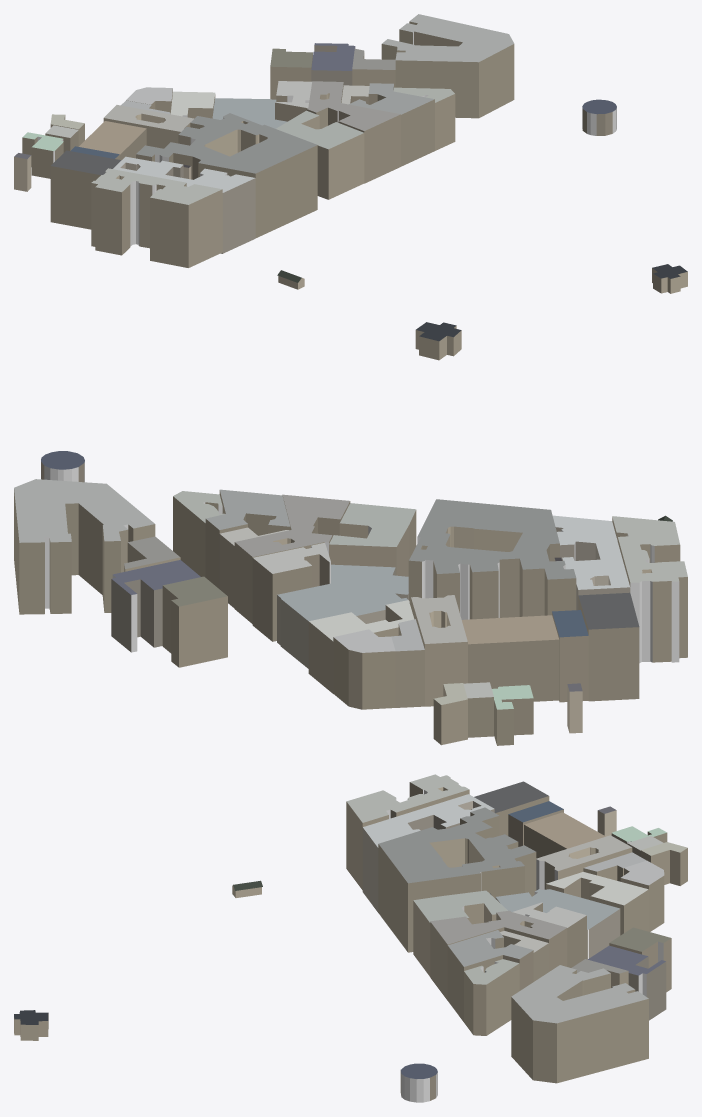
The picture shows the model from 3 angles, top to bottom: view 1: azimuth 30°, elevation 25°; view 2: azimuth 150°, elevation 25°; view 3: azimuth 270°, elevation 25°; orthographic projection. The views are drawn at different scales.
Parts seen in each view (by area): view 1: tuile; view 2: tuile; view 3: tuile.
Part boxes in pixels (x1,y1,x2,y2): tuile: (14, 14, 687, 293); tuile: (14, 322, 687, 745); tuile: (14, 774, 687, 1102).
Bounding box in the file's own units: 247 × 29.77 × 262.
